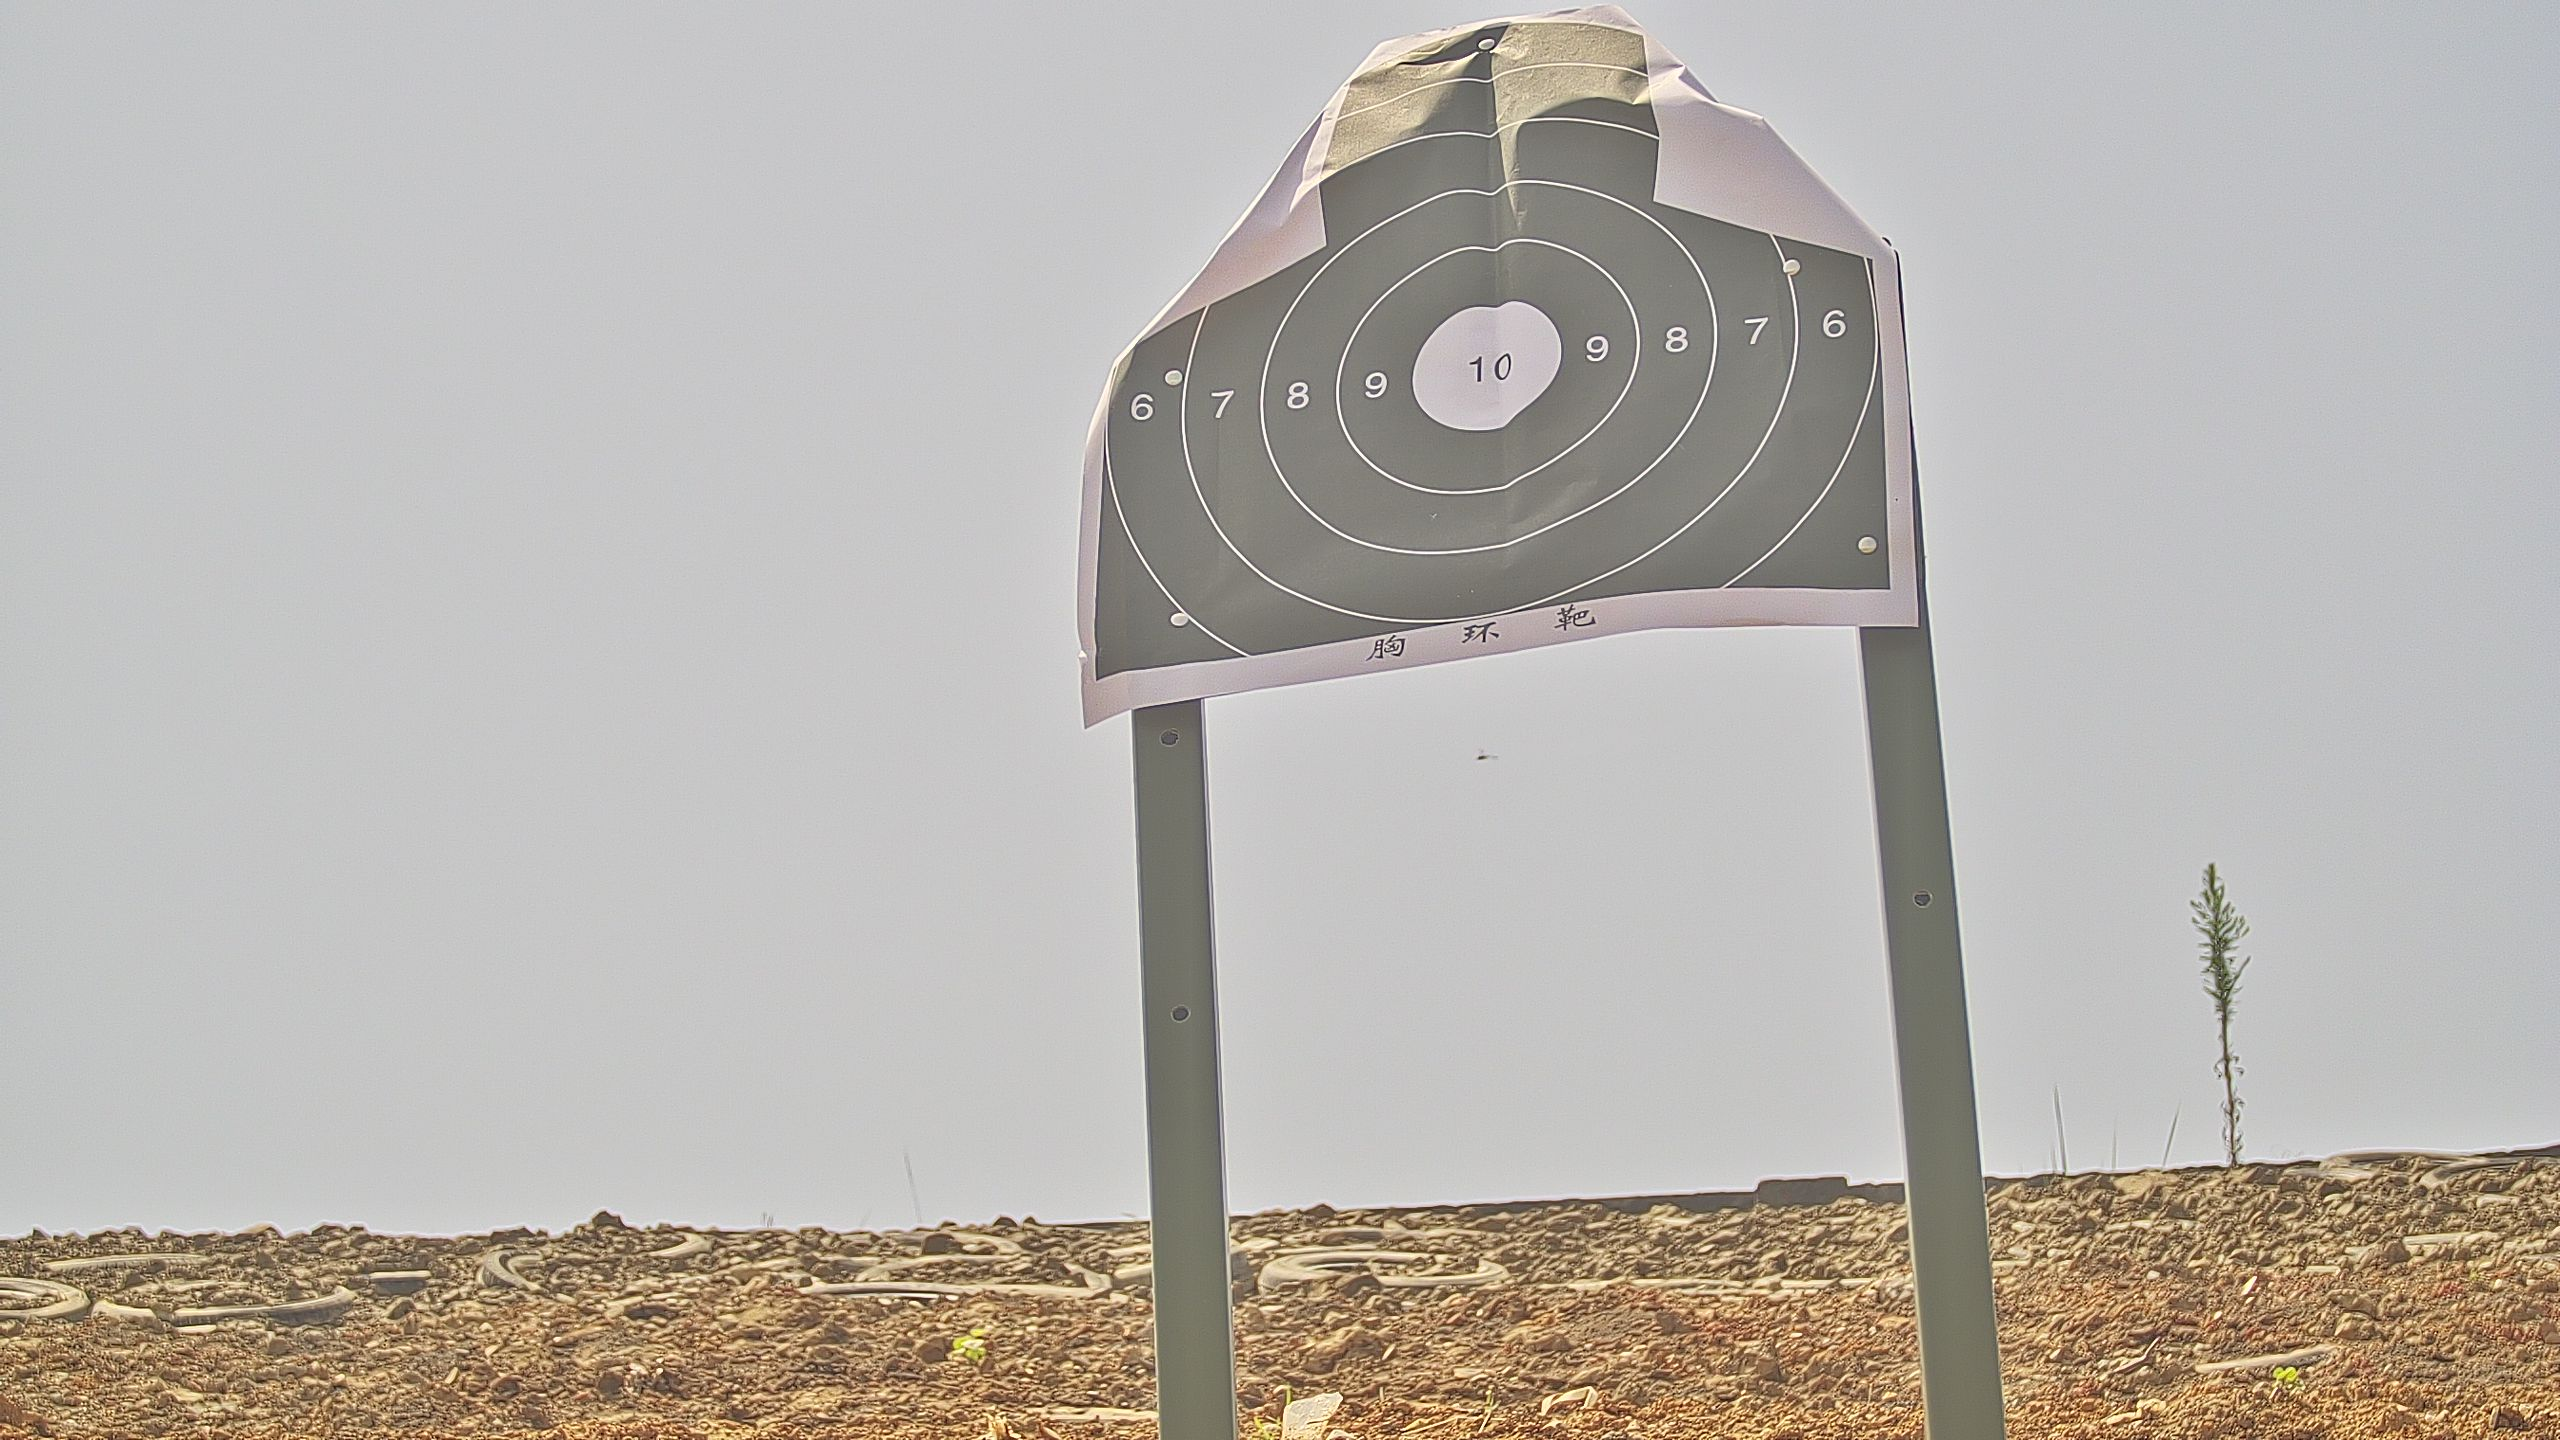target: (1095, 23, 1894, 680)
ten: (1405, 304, 1567, 433)
